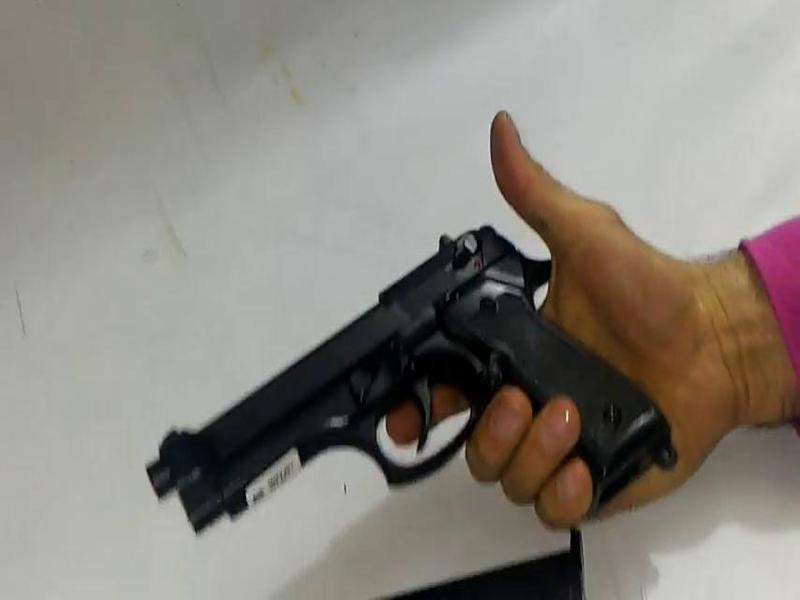Pistola: (101, 220, 717, 530)
